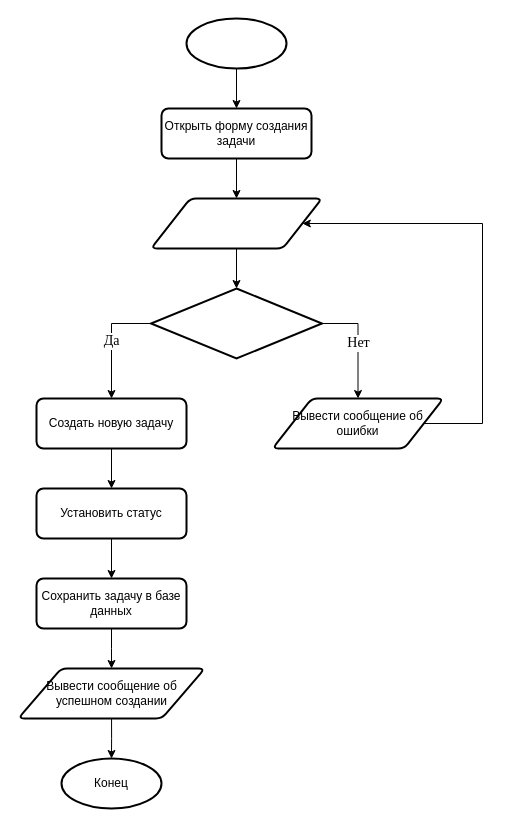
The diagram is 508 pixels wide and 826 high, and some of its shapes have lost their labels. Here are the shapes that lost their labels. From the top down, the centre of each, then its label:
(x=236, y=43): Начало
(x=236, y=223): Ввести название и описание
(x=236, y=323): Обязательные поля заполнены?
